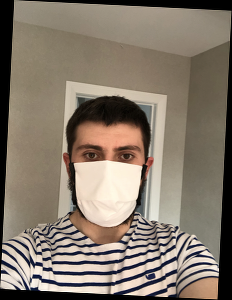with_mask: (70, 137, 143, 229)
